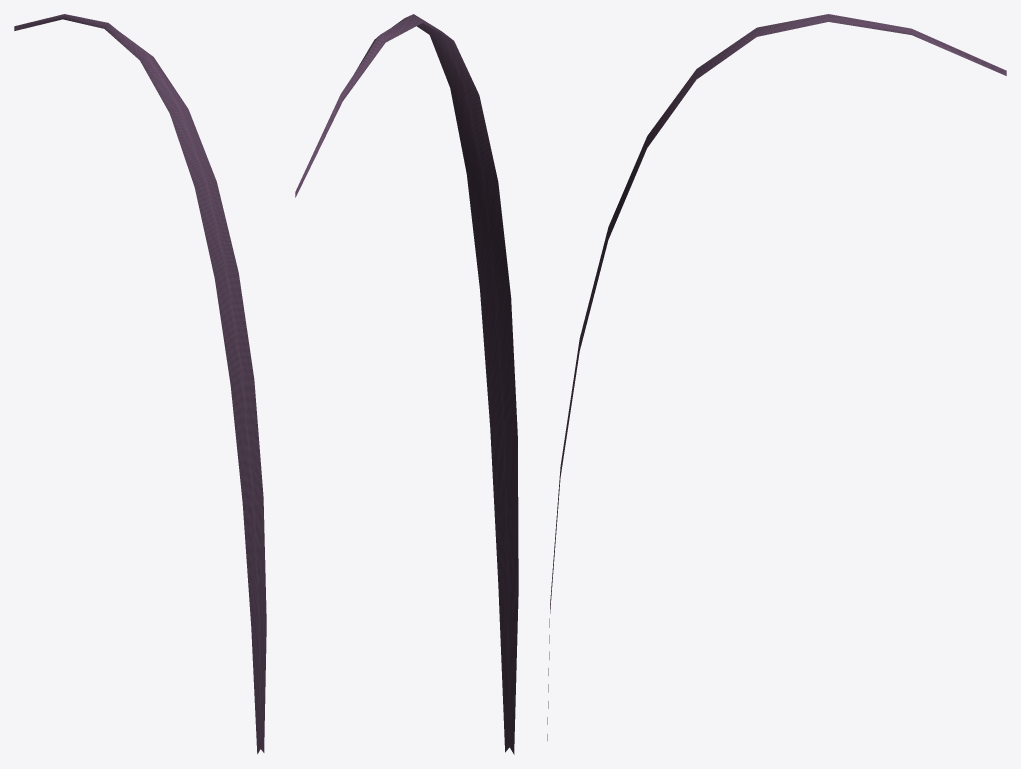
The model's file is single_blade_03.glb.
The picture shows the model from 3 angles, left to right: view 1: azimuth 30°, elevation 25°; view 2: azimuth 150°, elevation 25°; view 3: azimuth 270°, elevation 25°; orthographic projection. The views are drawn at different scales.
Visible parts, largest first — view 1: export; view 2: export; view 3: export.
Part boxes in pixels (x1=…): export: x1=14, y1=14, x2=266, y2=754; export: x1=295, y1=14, x2=518, y2=754; export: x1=547, y1=14, x2=1006, y2=740.
Bounding box in the file's own units: 0.0823 × 1.01 × 0.5791.
Materials: 1 (1 with a texture image).
